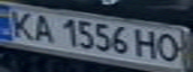1: (54, 16, 78, 47)
5: (72, 19, 96, 51), (90, 21, 112, 53)
6: (109, 25, 133, 56)
A: (27, 11, 57, 44)
H: (133, 28, 160, 61)
K: (3, 7, 39, 40)
O: (154, 30, 184, 64)
